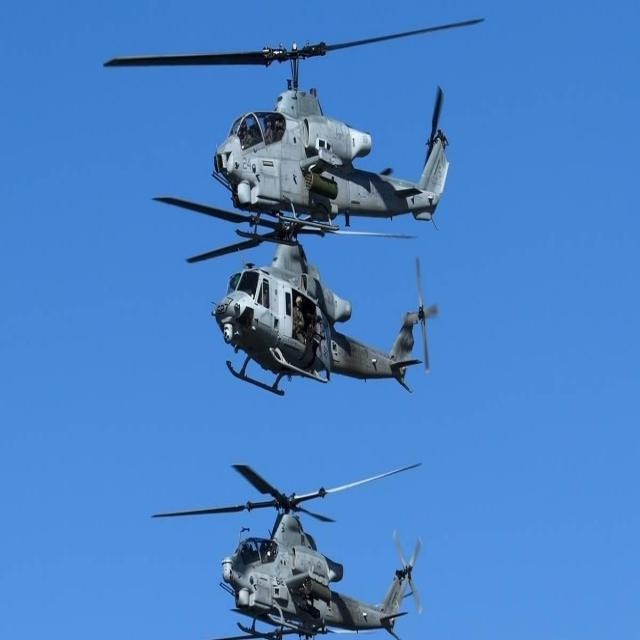MIL_HELO: (105, 8, 492, 235), (152, 185, 449, 405), (139, 444, 442, 640)
